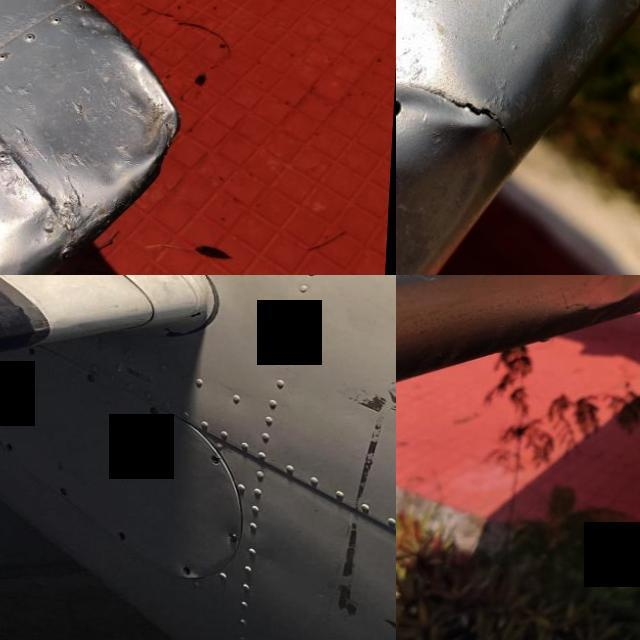Crack: (396, 59, 542, 173)
Dent: (396, 0, 571, 275), (61, 31, 214, 192), (543, 275, 640, 334)
Missing_Fastener: (4, 443, 20, 456), (119, 532, 136, 542), (185, 566, 198, 576)
